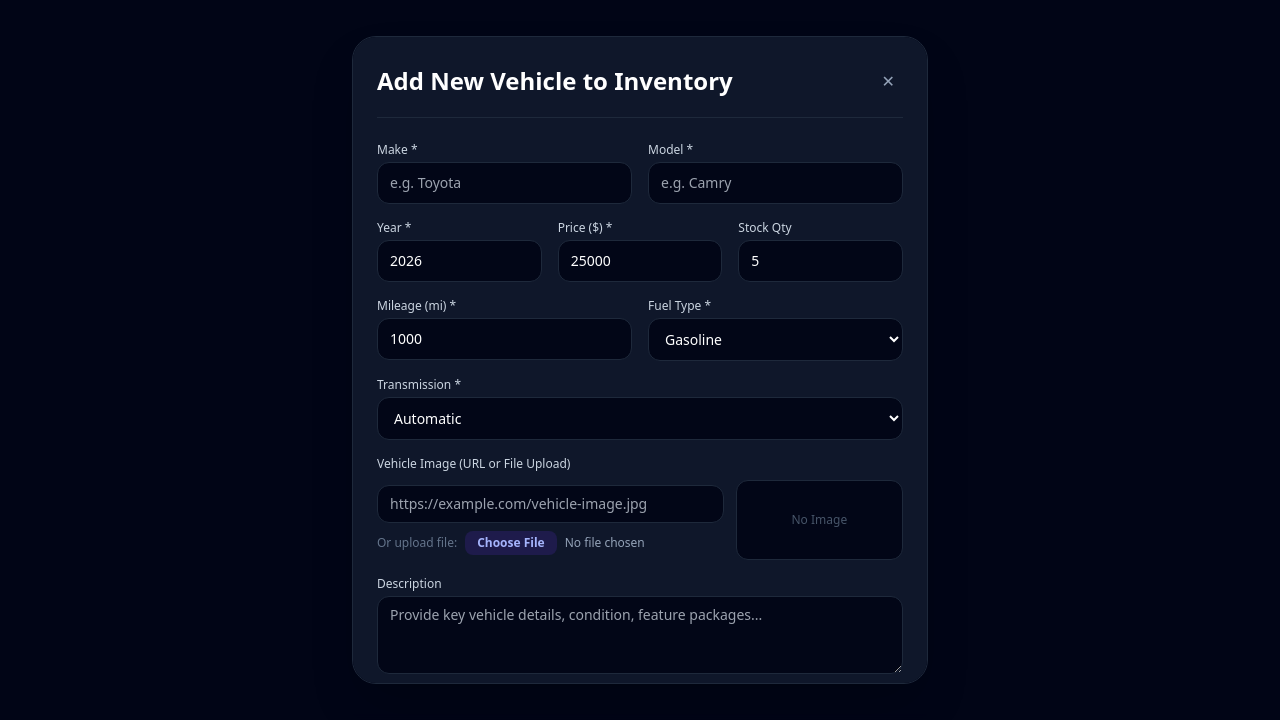
Test: VehicleFormModal Component Unit Tests › displays validation error messages when required fields are empty
expect the field labelled "Make *" is shown: met, box [377,162,632,204]
Clear the field labelled "Model *" at (776, 183), box [648,162,903,204]
(page scrolled)
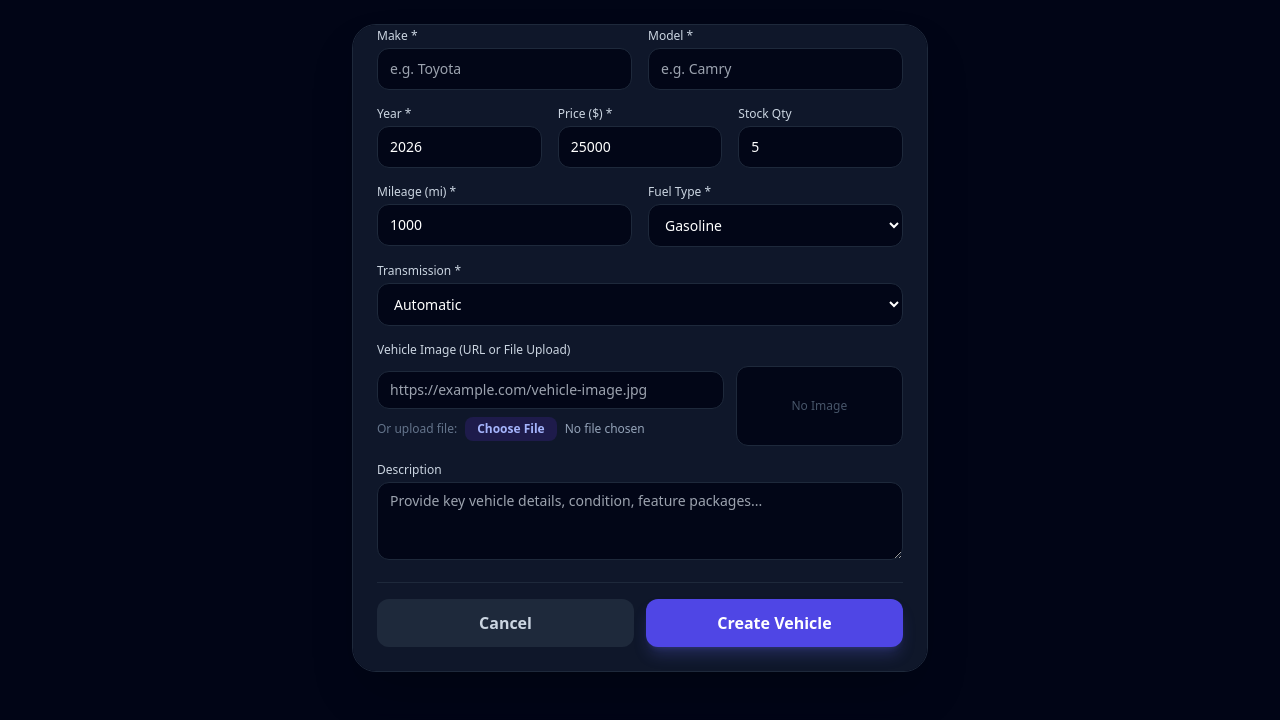
Click the button with test id "form-submit-btn" at (774, 623), box [646,599,903,647]
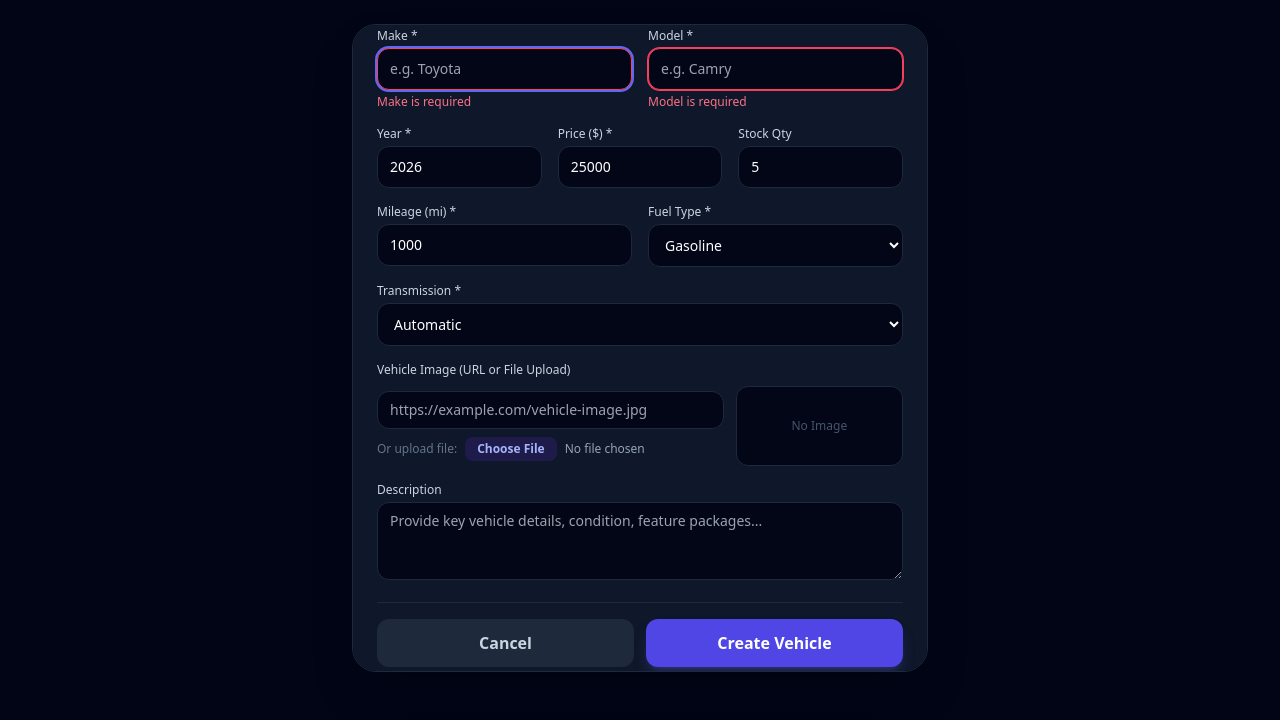
expect the text "Make is required" is shown: met, box [377,93,471,110]
expect the text "Model is required" is shown: met, box [648,93,747,110]
